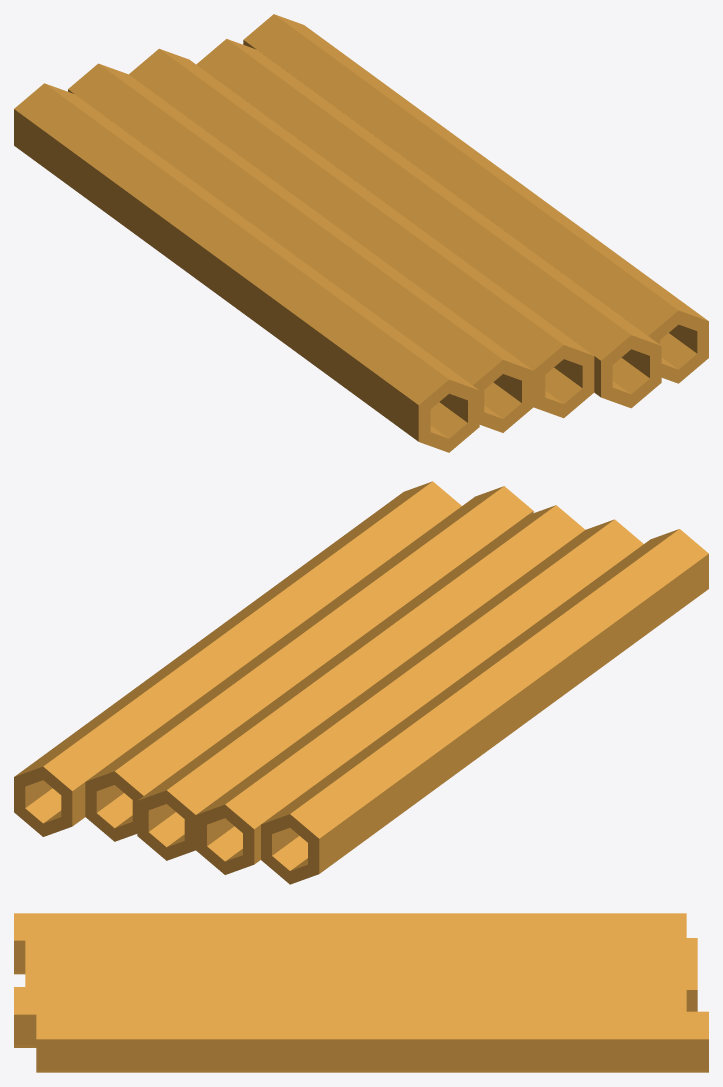
Rendered from resources-carbon-fiber.glb.
3 renders of one model, top to bottom at view 1: azimuth 30°, elevation 25°; view 2: azimuth 150°, elevation 25°; view 3: azimuth 270°, elevation 25°, orthographic. The views are drawn at different scales.
Parts seen in each view (by area): view 1: carbon-fiber; view 2: carbon-fiber; view 3: carbon-fiber.
Boxes of the visible parts, left/top/right/bottom form: carbon-fiber: left=14, top=14, right=708, bottom=452; carbon-fiber: left=14, top=481, right=708, bottom=884; carbon-fiber: left=14, top=913, right=708, bottom=1072.
Size of the model in its own units: 0.2599 by 0.06 by 0.62.
